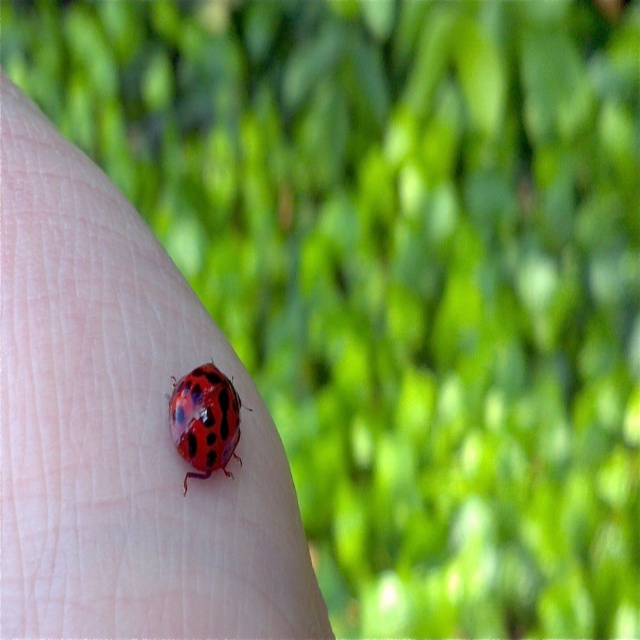Ladybug: (164, 358, 254, 500)
